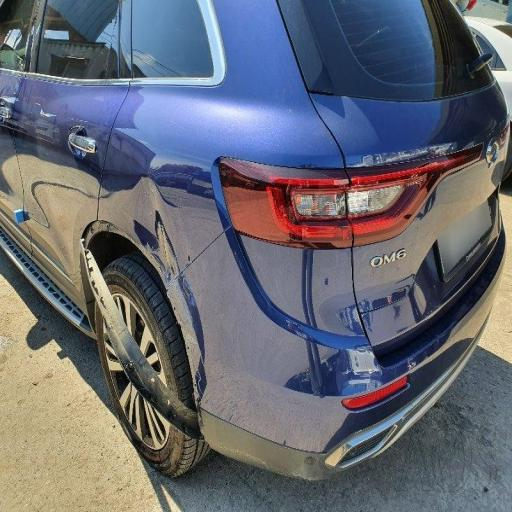broken: (70, 177, 392, 449)
